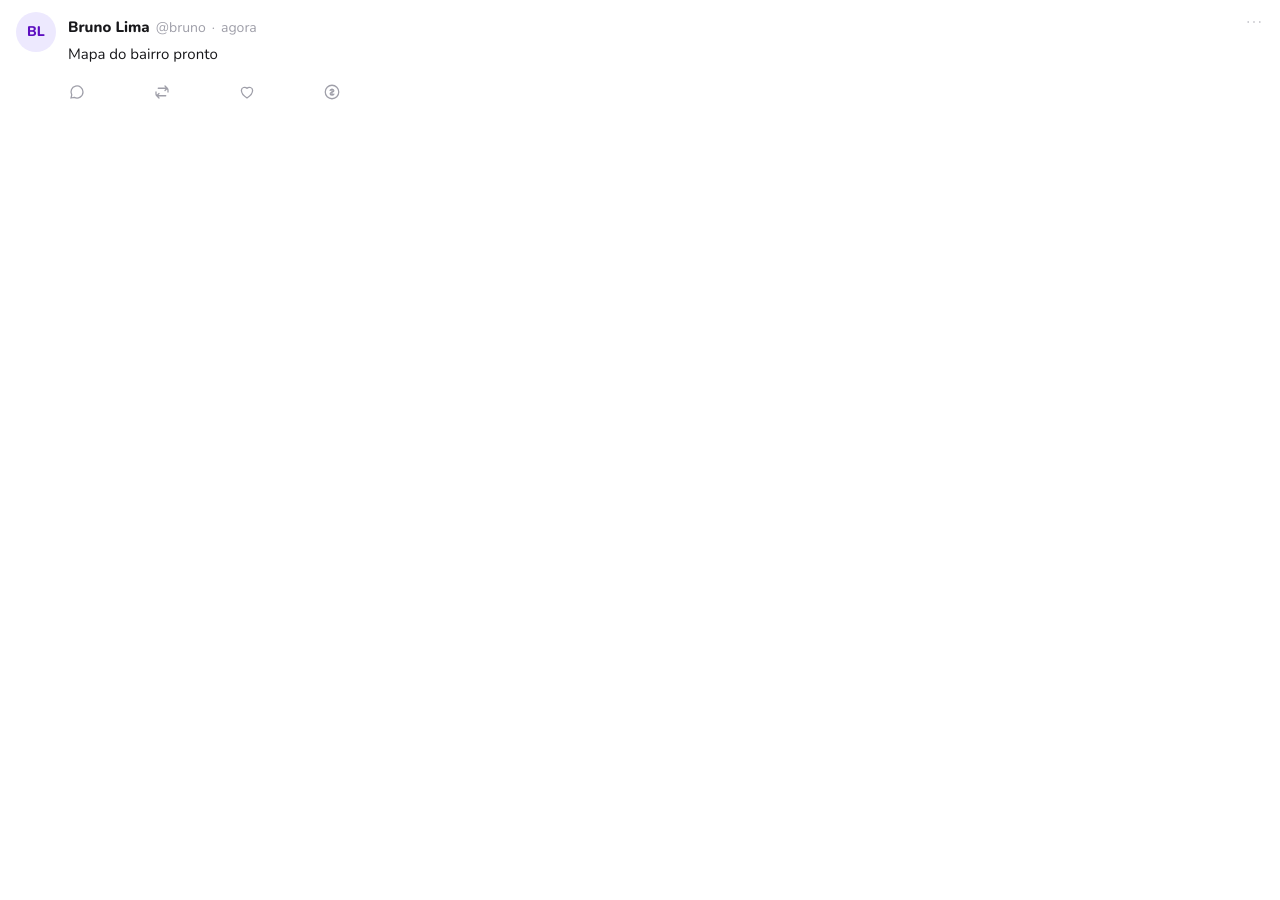
Test: citar post › o botão de repost abre "Repostar" e "Citar"; citar envia quote_of_id com o post citado na janela
Click the button named "Repostar ou citar".
click(167, 92)  # box x1=145 y1=70 x2=189 y2=114
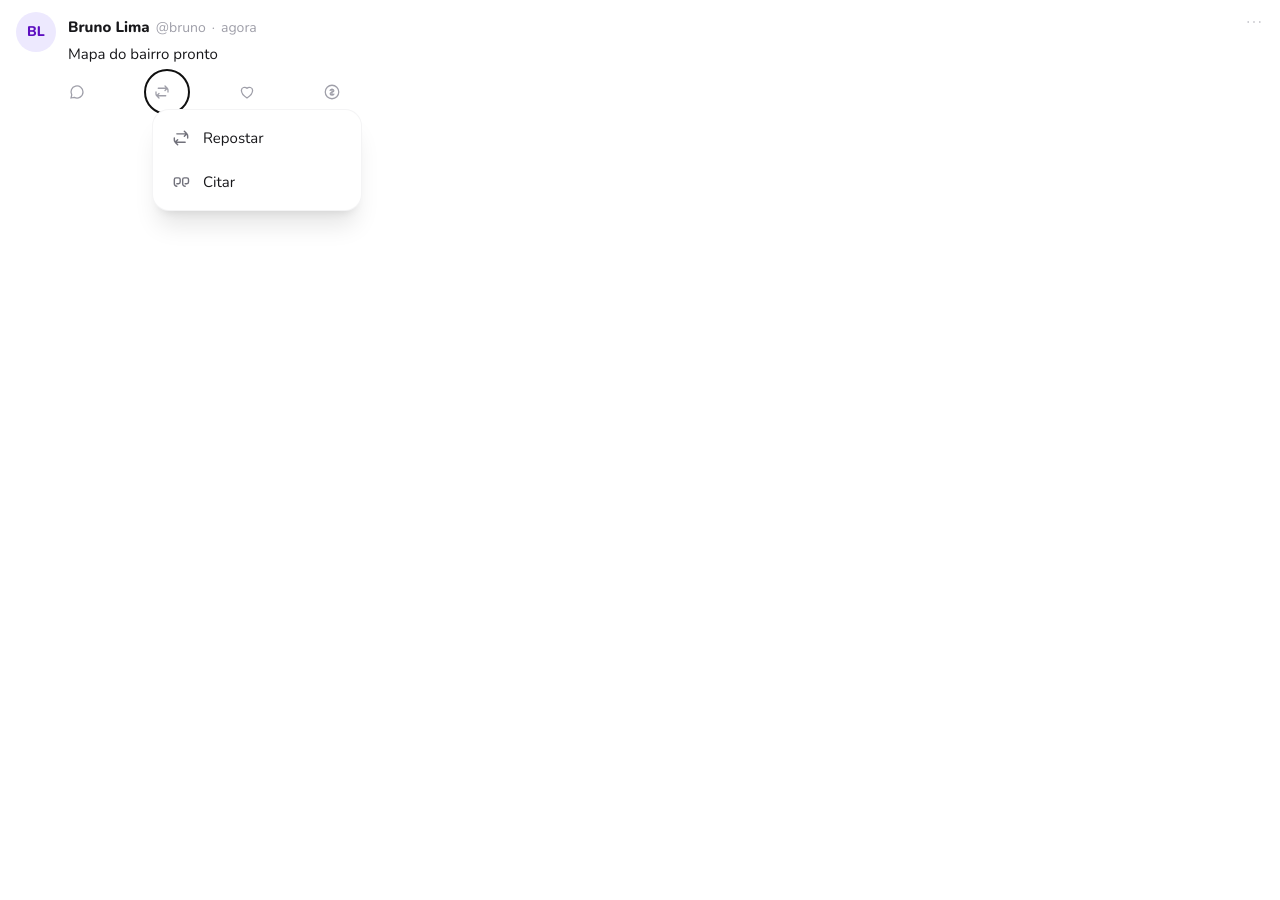
Expected: the menu item "Repostar" is shown, x1=159 y1=116 x2=355 y2=160
Click the menu item "Citar".
click(257, 182)  # box x1=159 y1=160 x2=355 y2=204
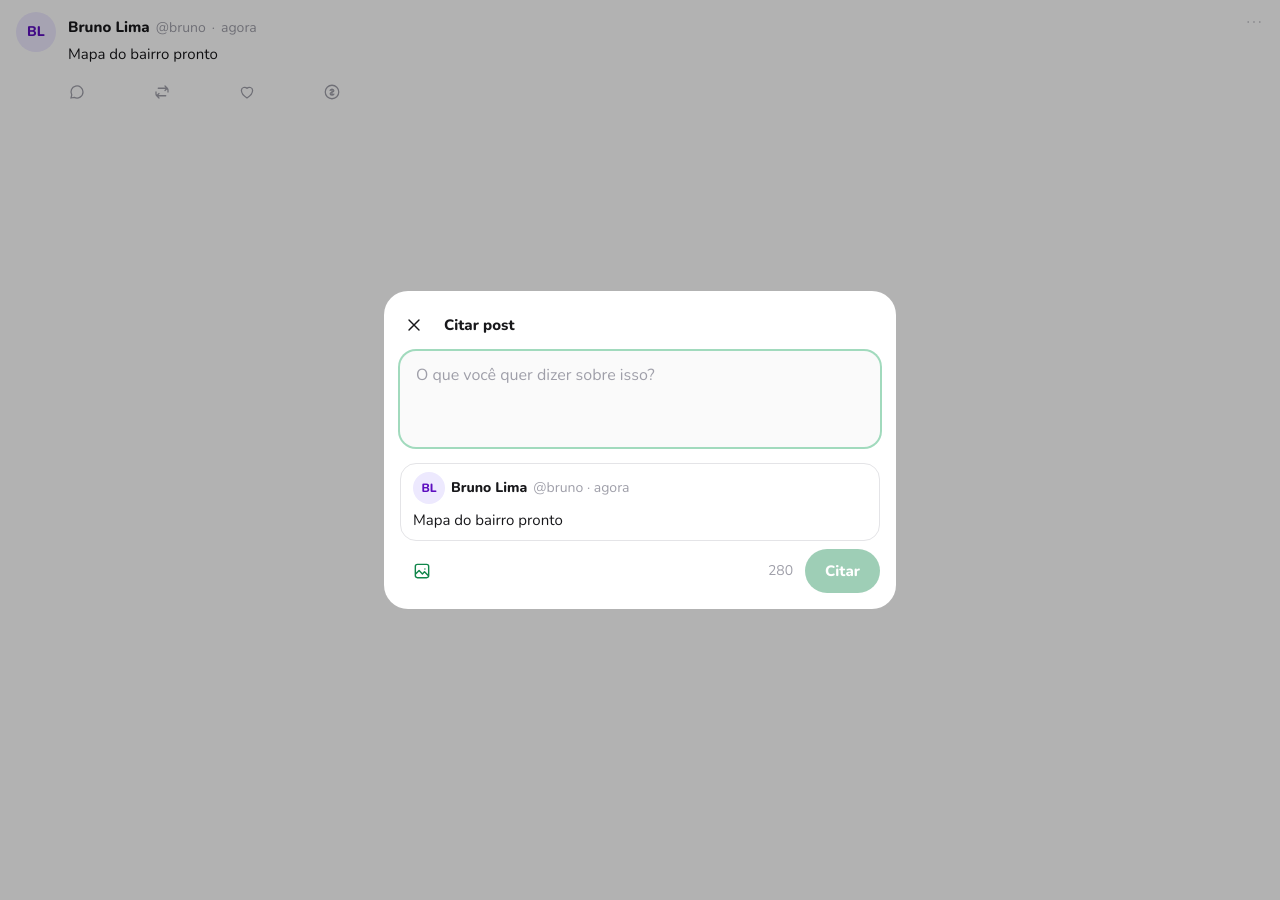
Expected: the text "Mapa do bairro pronto" is shown, x1=413 y1=510 x2=563 y2=530
Type "Vale ver" into the text box named "Novo post".
click(640, 399); type("Vale ver")  # box x1=400 y1=351 x2=880 y2=447
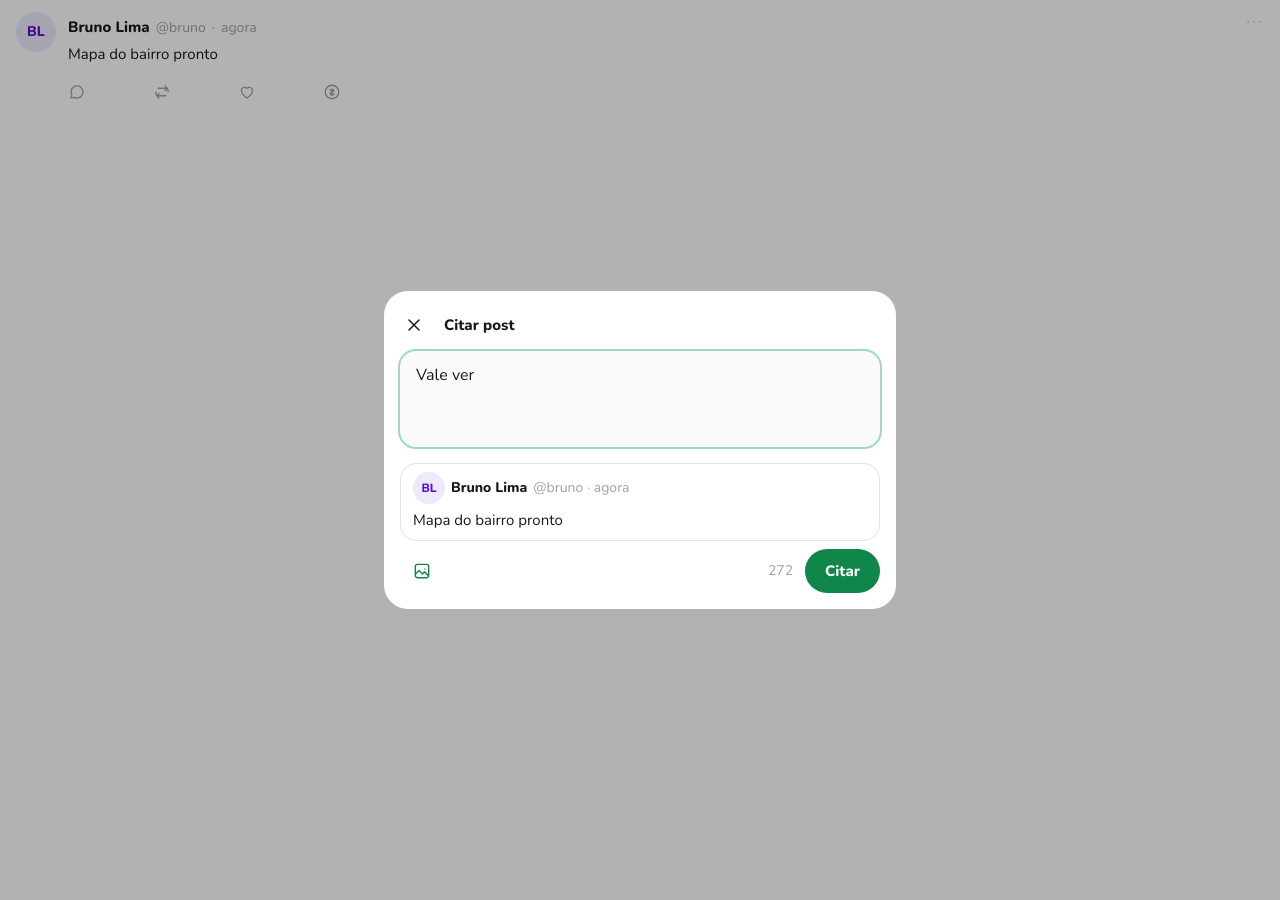
Click the button "Citar".
click(843, 571)  # box x1=805 y1=549 x2=880 y2=593
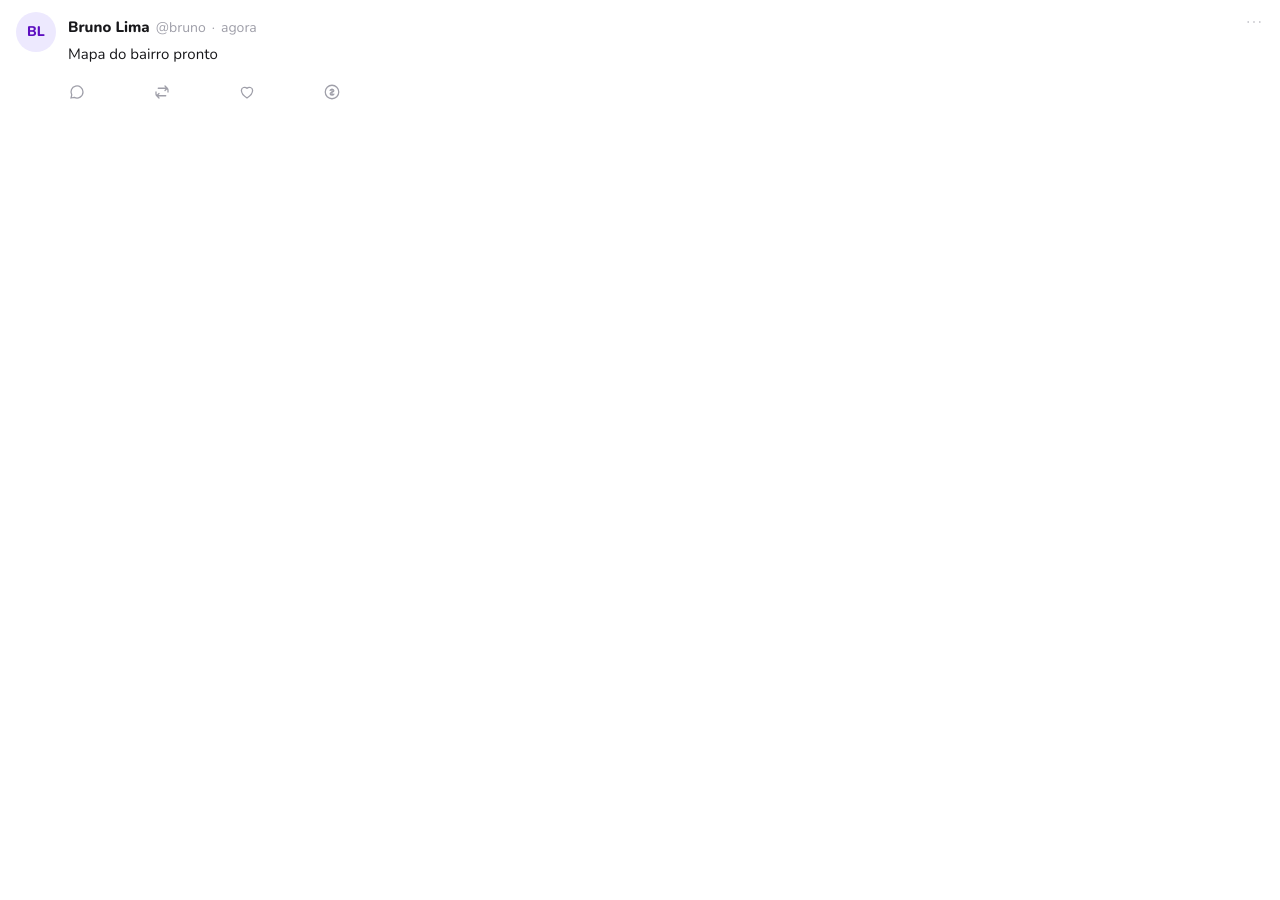
Expected: the dialog is gone
